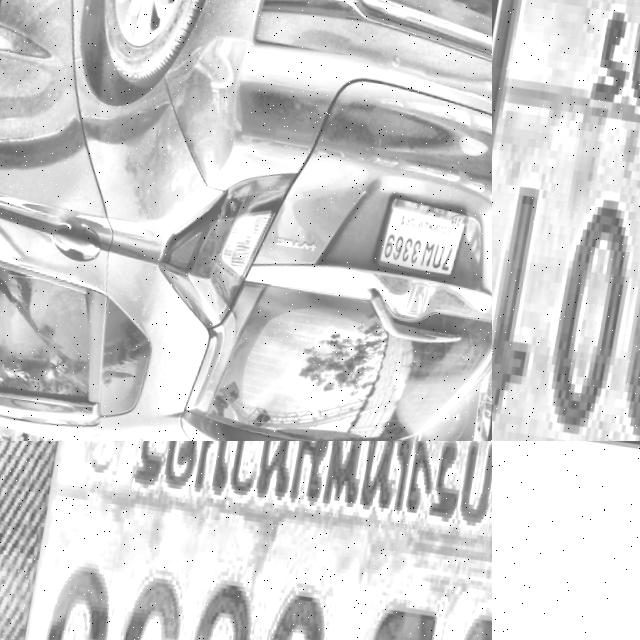license-plate: (0, 441, 492, 640), (492, 0, 640, 441), (492, 441, 640, 640), (375, 194, 472, 287)
